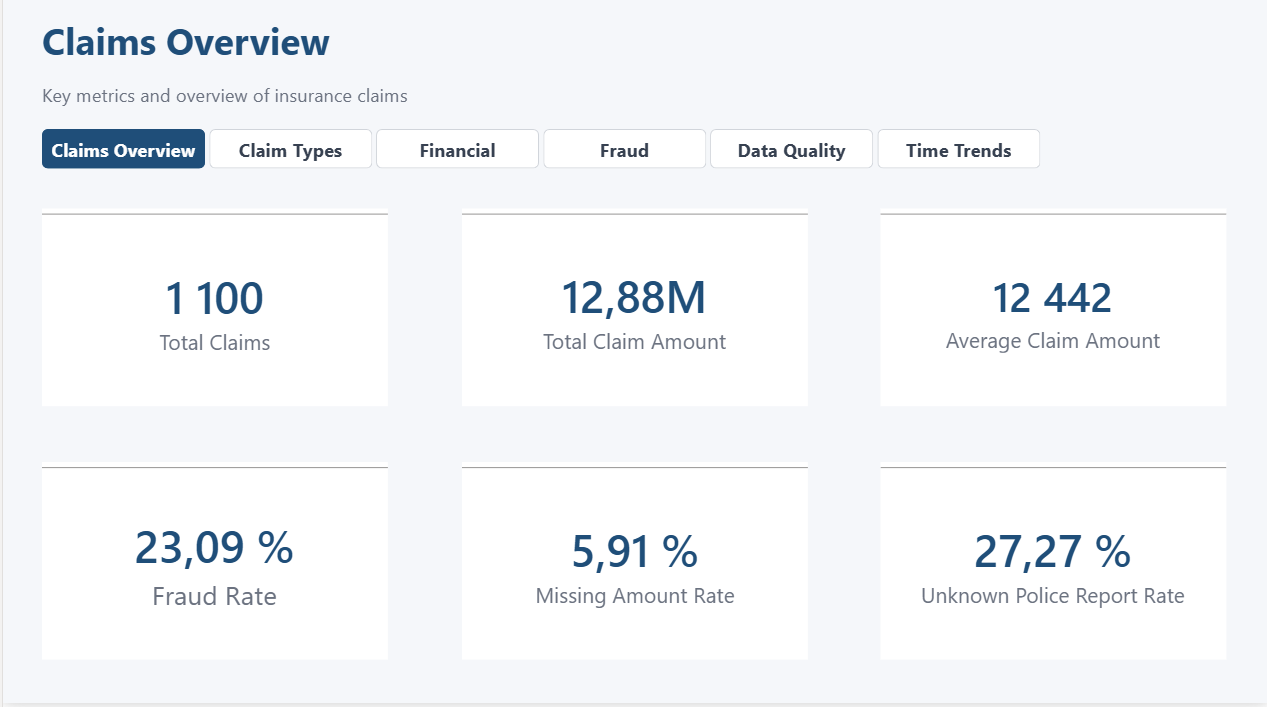

Layout of this report page (visuals, bound fields, positions):
{"tool":"powerbi","page":{"name":"Claims Overview","canvas":[1280,720],"ordinal":0},"visuals":[{"type":"cardVisual","fields":{"Data":["_measures.Total Claims"]},"box":[40,220,350,200],"z":0},{"type":"cardVisual","fields":{"Data":["_measures.Total Claim Amount"]},"box":[464.1,220,349.9,199.9],"z":1000},{"type":"cardVisual","fields":{"Data":["_measures.Average Claim Amount"]},"box":[888,220,349.9,199.9],"z":2000},{"type":"cardVisual","fields":{"Data":["_measures.Fraud Rate"]},"box":[40,476.5,349.9,199.9],"z":3000},{"type":"cardVisual","fields":{"Data":["_measures.Claims Without Amount Rate"]},"box":[463.9,476,350,199.9],"z":4000},{"type":"cardVisual","fields":{"Data":["_measures.Unknown Police Report Rate"]},"box":[888,476,349.9,199.9],"z":5000},{"type":"textbox","box":[40,25,800,70],"z":6000},{"type":"textbox","box":[40,92,600,26],"z":7000},{"type":"pageNavigator","box":[40,140,1010,40],"z":7002}]}

Visuals, with their boxes in screenshot pixels (x1, y1, x2, y2), scaled from the page's 1280x720 canvas onto the 1267x707 screenshot:
cardVisual - _measures.Total Claims: bbox=(40, 216, 386, 412)
cardVisual - _measures.Total Claim Amount: bbox=(459, 216, 806, 412)
cardVisual - _measures.Average Claim Amount: bbox=(879, 216, 1225, 412)
cardVisual - _measures.Fraud Rate: bbox=(40, 468, 386, 664)
cardVisual - _measures.Claims Without Amount Rate: bbox=(459, 467, 806, 664)
cardVisual - _measures.Unknown Police Report Rate: bbox=(879, 467, 1225, 664)
textbox: bbox=(40, 25, 831, 93)
textbox: bbox=(40, 90, 634, 116)
pageNavigator: bbox=(40, 137, 1039, 177)
